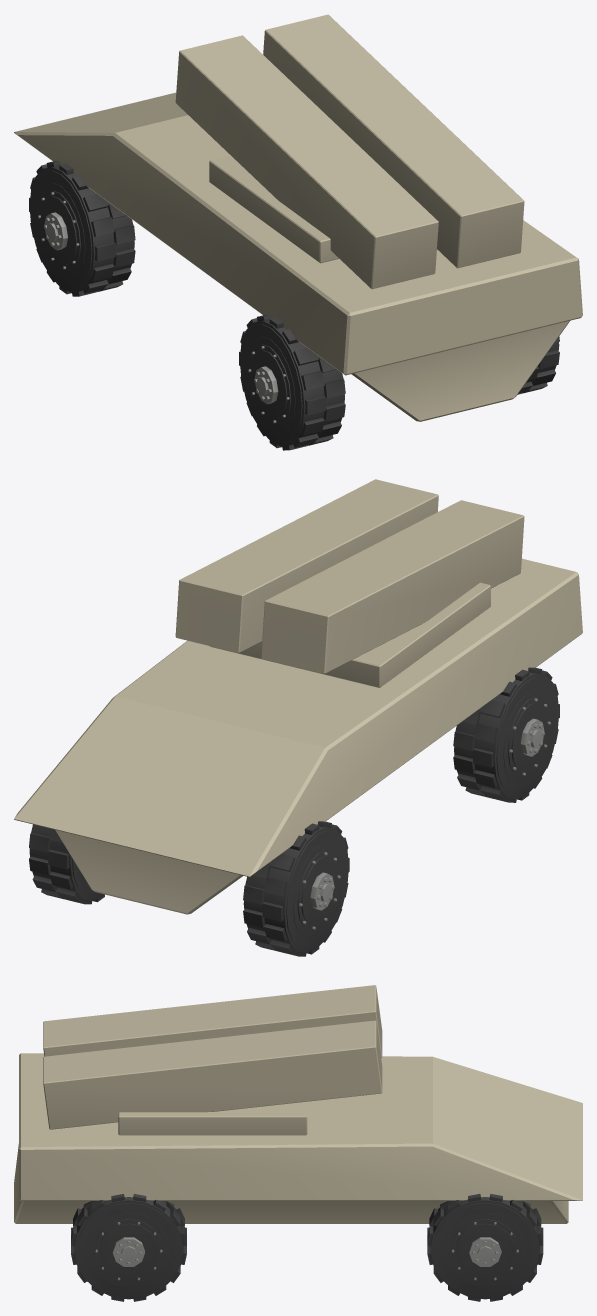
File: usa_cst_nmesis.glb
The picture shows the model from 3 angles, top to bottom: view 1: azimuth 30°, elevation 25°; view 2: azimuth 150°, elevation 25°; view 3: azimuth 270°, elevation 25°; orthographic projection. The views are drawn at different scales.
Visible parts, largest first — view 1: body, barrel, wheel_0, wheel_2, turret, wheel_3; view 2: body, barrel, wheel_0, wheel_2, turret, wheel_1; view 3: body, barrel, wheel_1, wheel_3, turret.
Part boxes in pixels (x1,y1,x2,y2): body: (14, 92, 582, 421); barrel: (175, 14, 524, 289); wheel_0: (29, 161, 135, 296); wheel_2: (239, 315, 345, 450); turret: (209, 155, 338, 263); wheel_3: (517, 336, 559, 394); body: (14, 558, 582, 914); barrel: (175, 479, 524, 673); wheel_0: (243, 821, 349, 956); wheel_2: (453, 667, 559, 802); turret: (210, 582, 490, 687); wheel_1: (29, 824, 104, 904); body: (14, 1053, 582, 1223); barrel: (43, 985, 382, 1129); wheel_1: (427, 1193, 543, 1301); wheel_3: (71, 1194, 186, 1301); turret: (118, 1101, 307, 1135).
Bounding box in the file's own units: 2.58 × 2.46 × 5.43.
